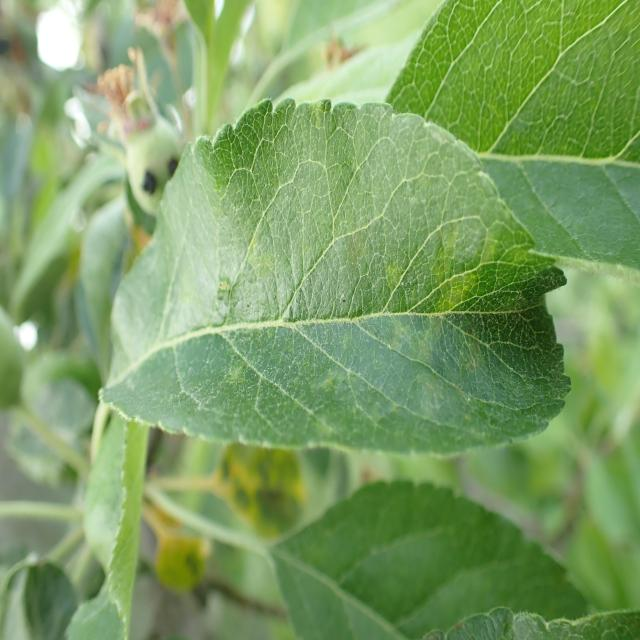scab: (156, 170, 520, 438)
